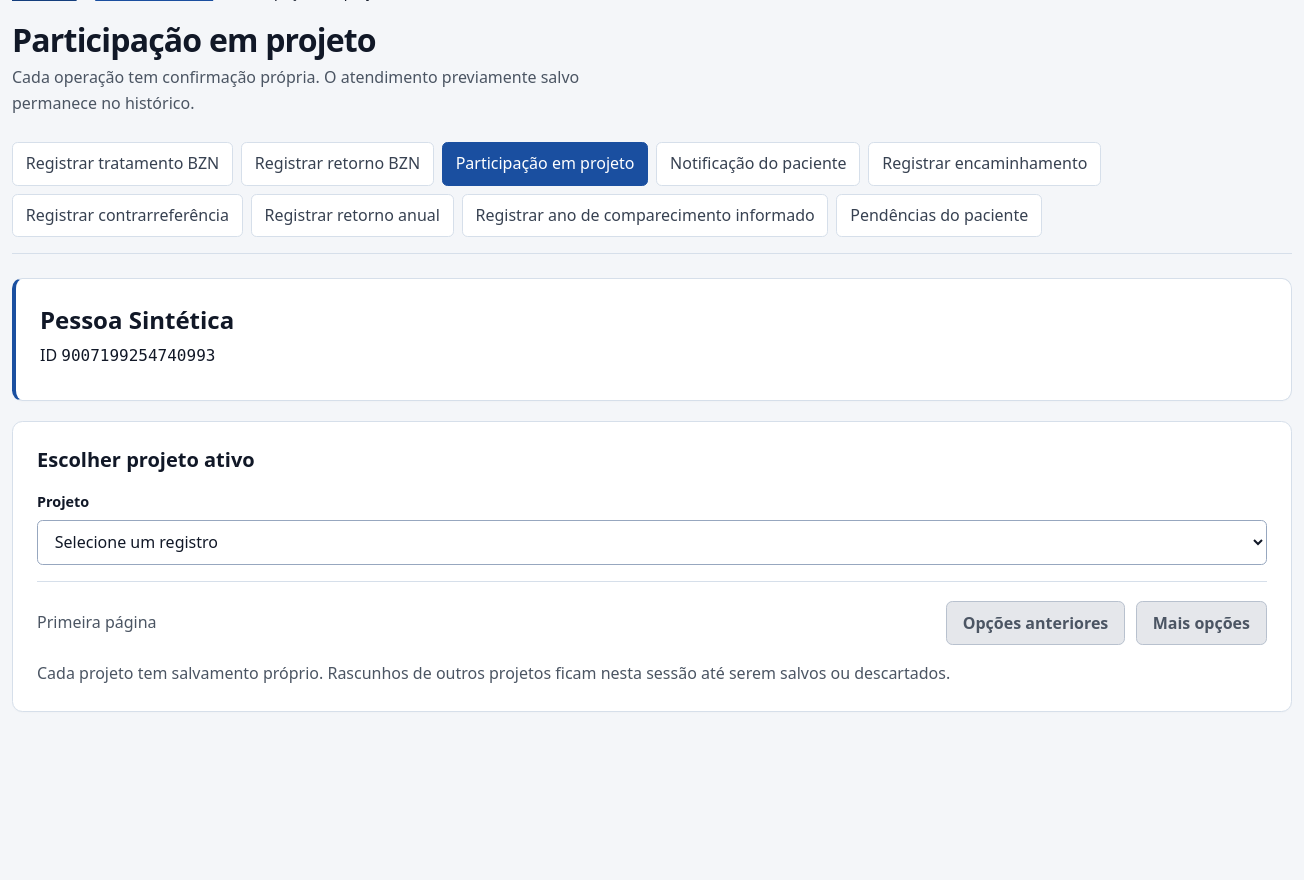
formulários de acompanhamento › preserva rascunhos ao alternar projetos e protege recarga com um rascunho inativo
The image size is (1304, 880).
Select "Projeto Sintético A · SINTETICO_A" in the dropdown labelled "Projeto" at x=652, y=542, box [37,520,1267,565]
(page scrolled)
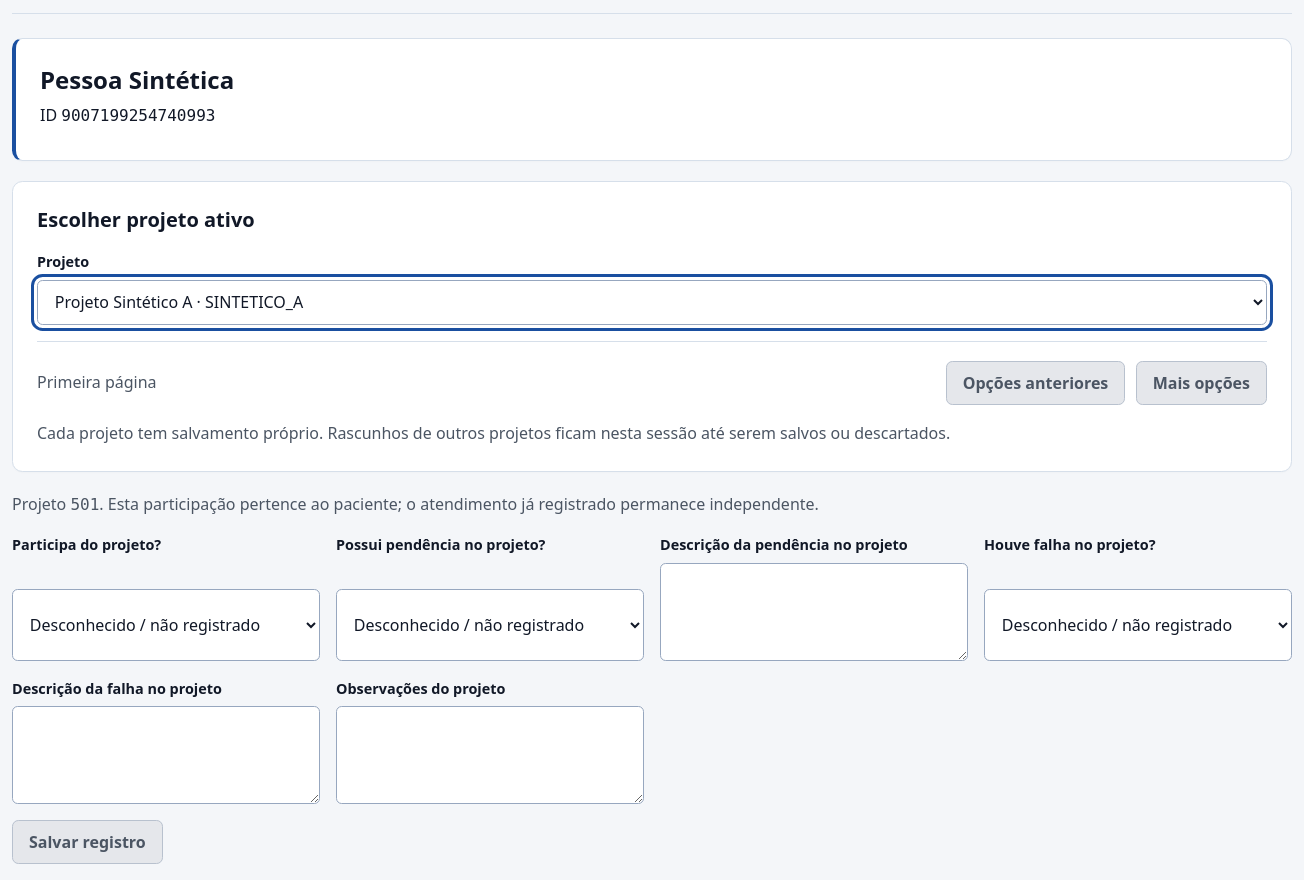
Type "Rascunho próprio do projeto A" into the text box labelled "Descrição da pendência no projeto".
click(814, 612); type("Rascunho próprio do projeto A")  # box [660,563,968,661]
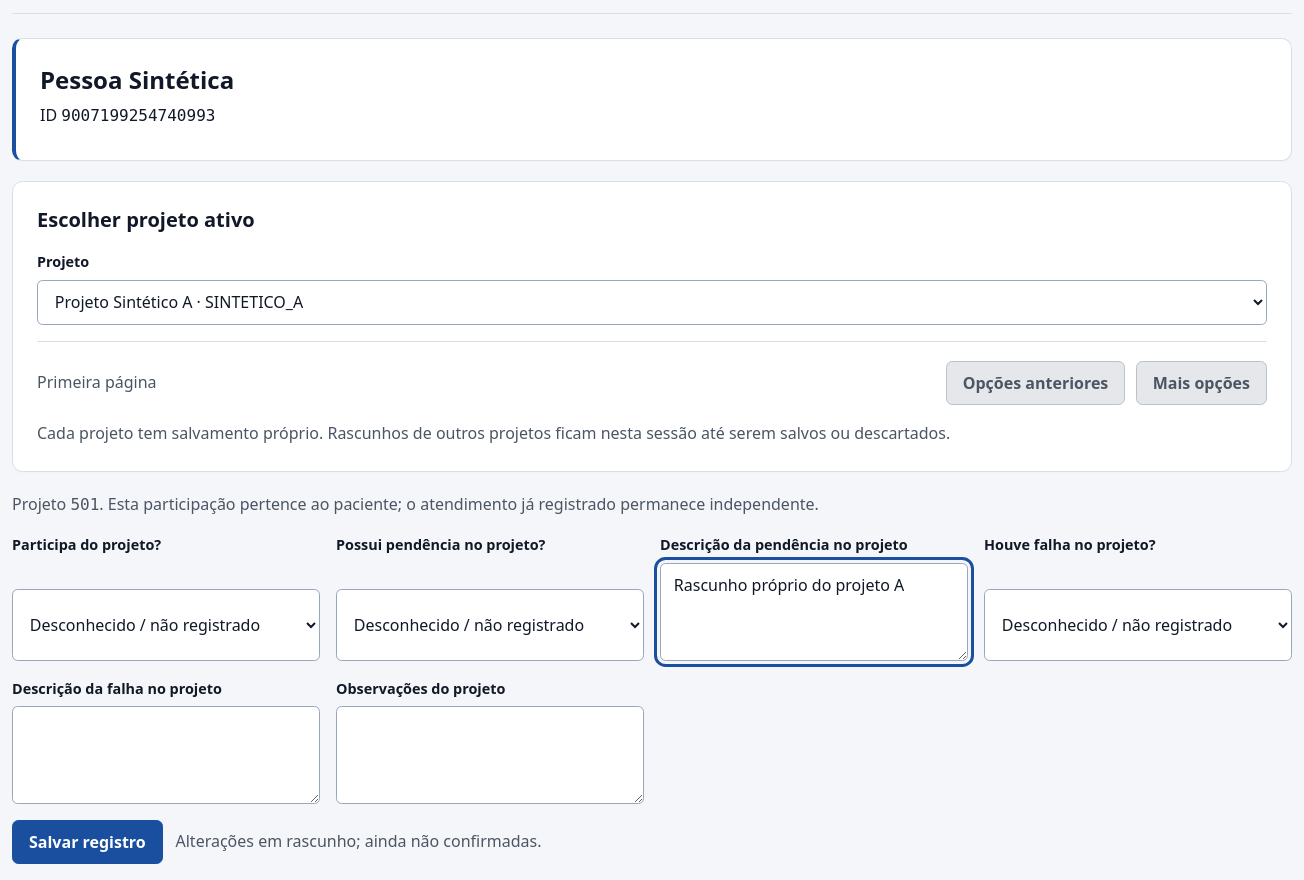
Select "Projeto Sintético B · SINTETICO_B" in the dropdown labelled "Projeto" at x=652, y=302, box [37,280,1267,325]
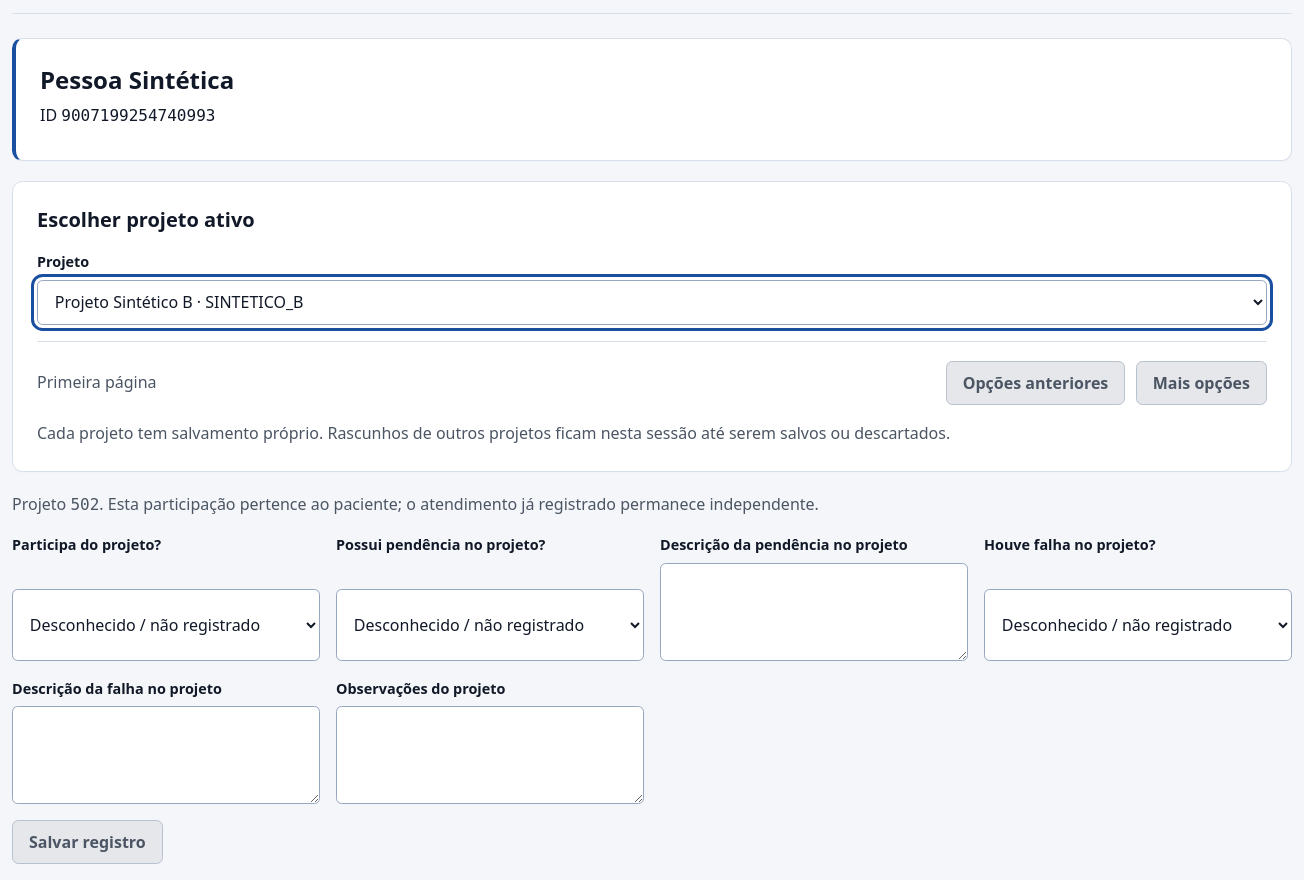
Now the text box labelled "Descrição da pendência no projeto" is empty, box [660,563,968,661]
Now the button "Salvar registro" is disabled, box [12,820,163,864]
Select "Projeto Sintético A · SINTETICO_A" in the dropdown labelled "Projeto" at x=652, y=302, box [37,280,1267,325]
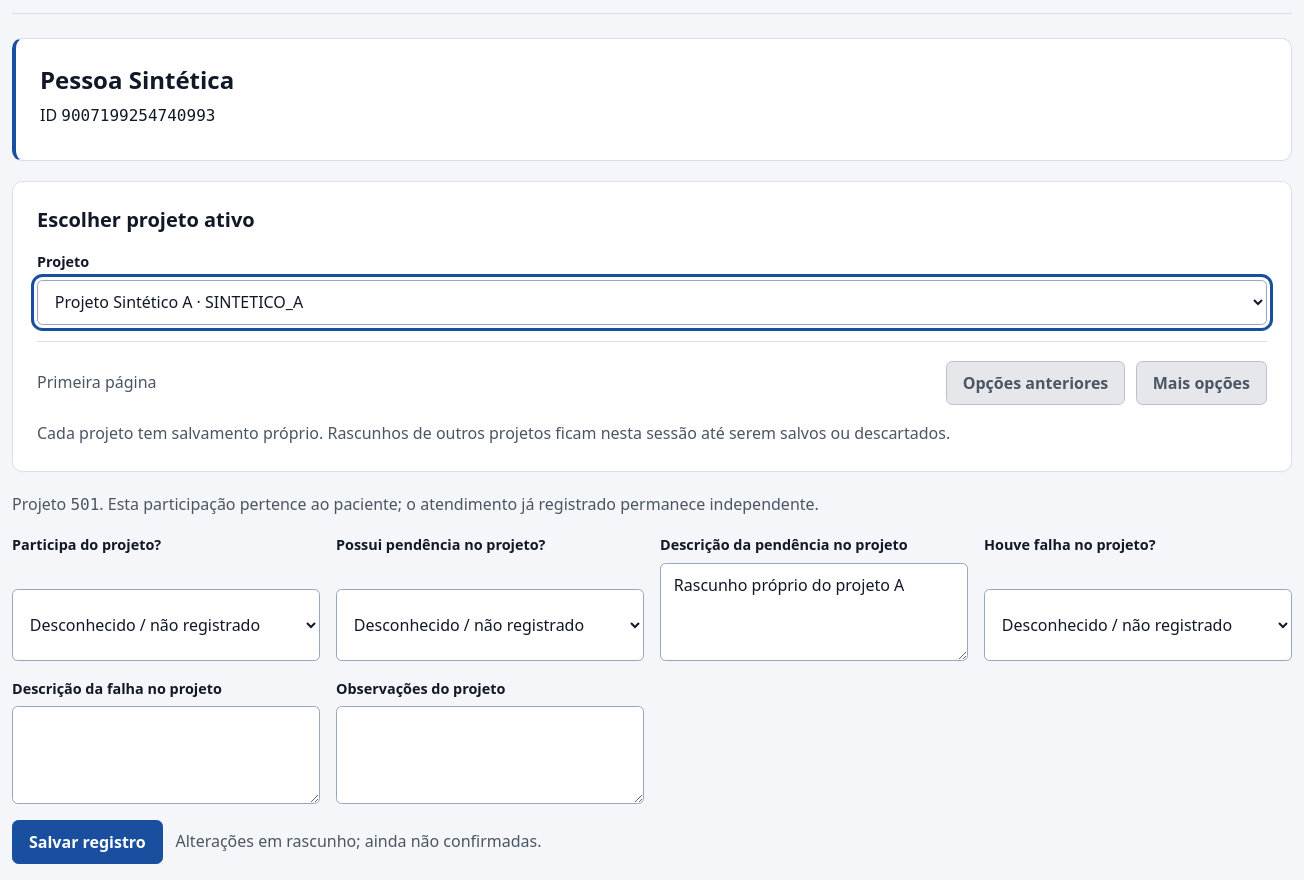
Now the text box labelled "Descrição da pendência no projeto" holds "Rascunho próprio do projeto A", box [660,563,968,661]
